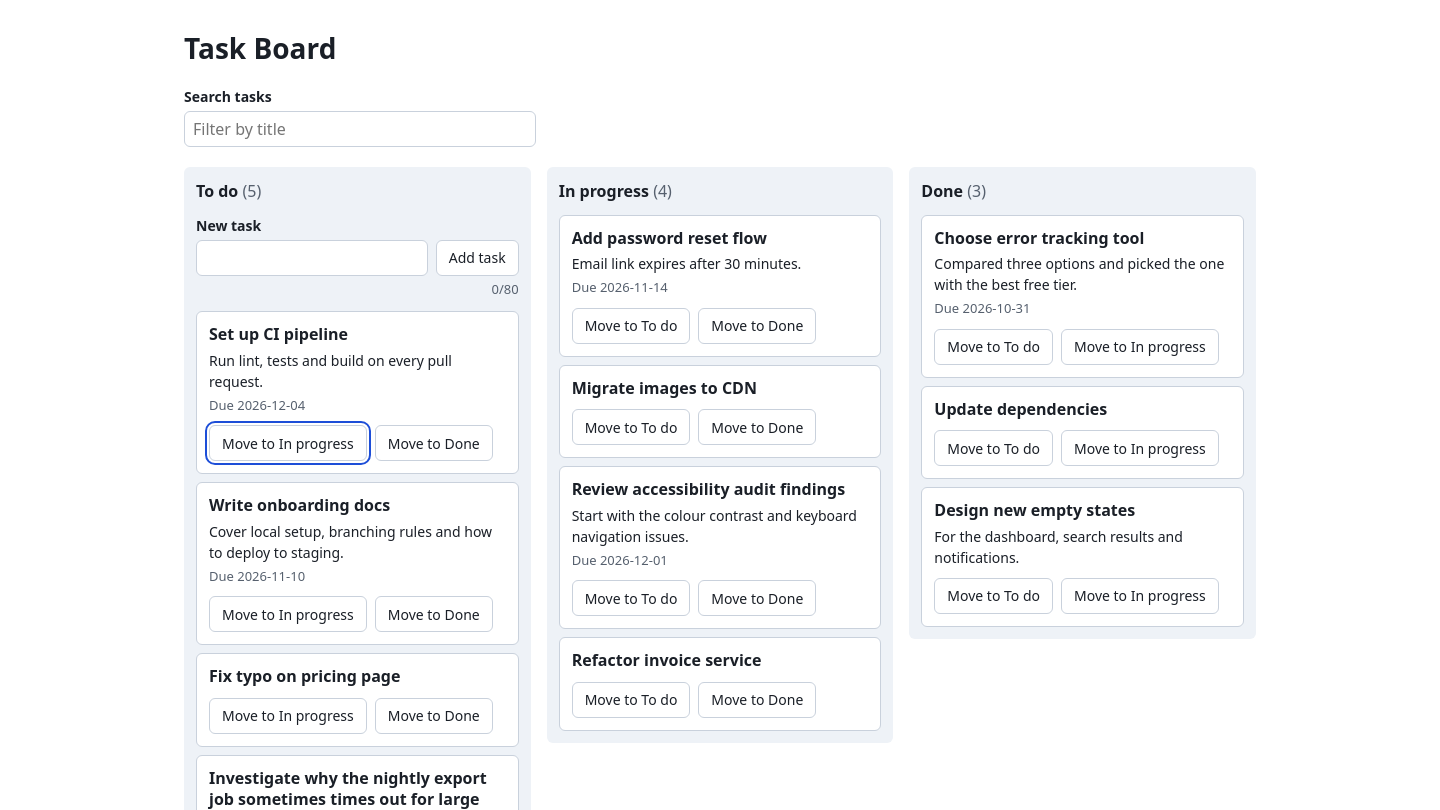
Test: saves moves to every column at failRate=0 and keeps counts in sync
This screenshot has width=1440, height=810.
Click the button "Move to In progress" below "Set up CI pipeline": (288, 443) [209, 425, 367, 461]
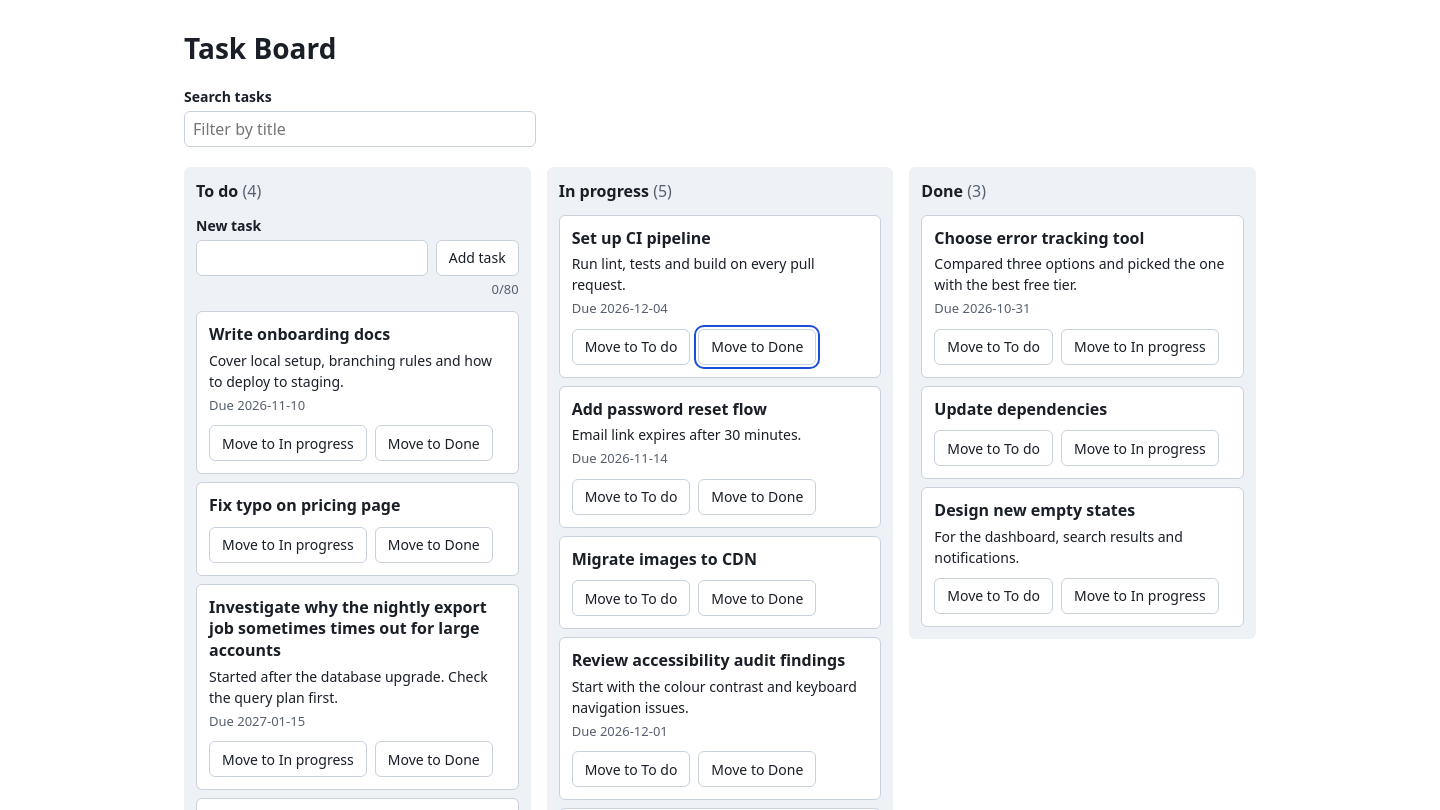
Expected: the heading "Done (3)" is shown, [921, 180, 986, 202]
Now the heading "To do (4)" is shown, box [196, 180, 261, 202]
Now the heading "In progress (5)" is shown, box [559, 180, 672, 202]
Click the button "Move to Done" below "Set up CI pipeline": (757, 347) [698, 329, 816, 365]
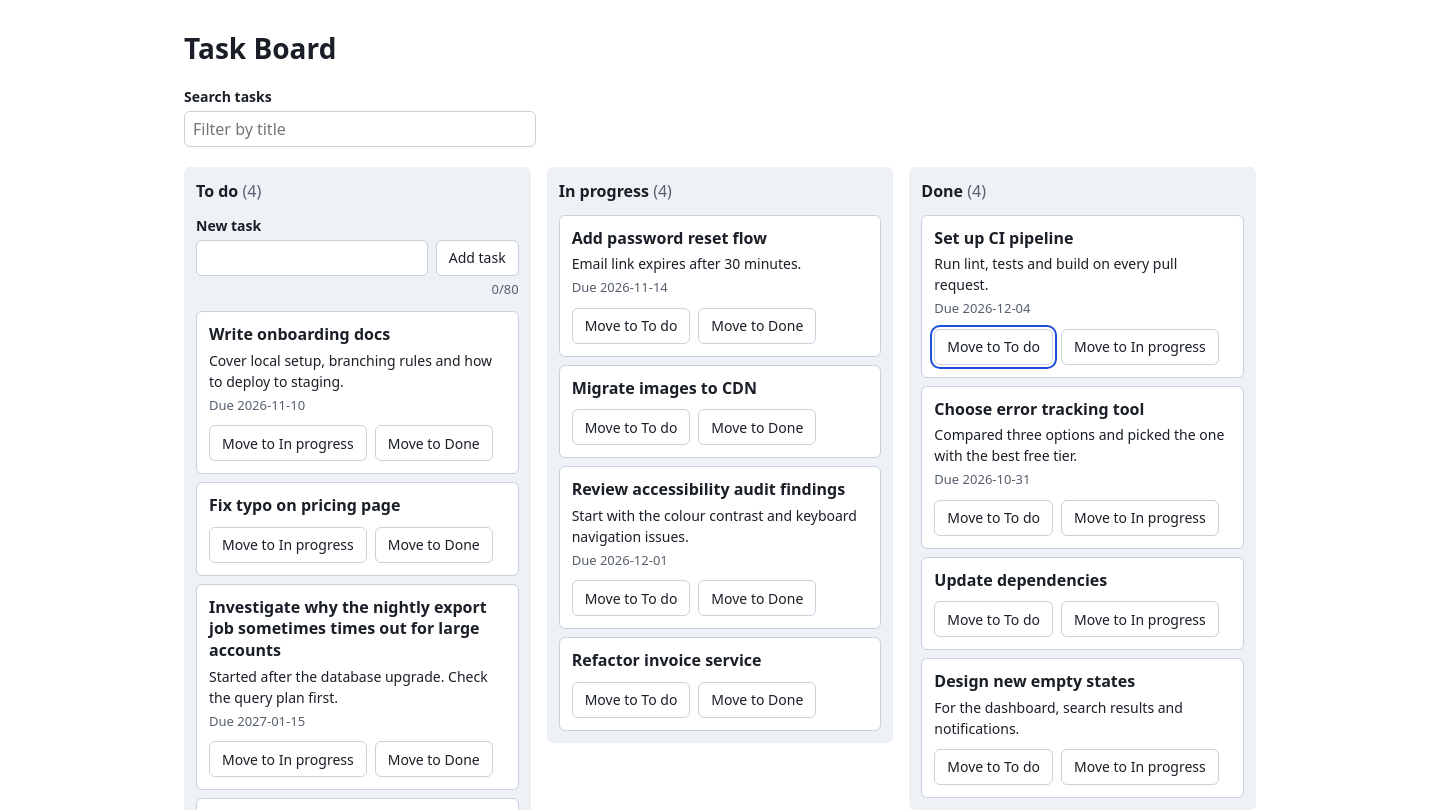
Now the heading "Done (4)" is shown, box [921, 180, 986, 202]
Click the button "Move to To do" below "Set up CI pipeline": (994, 347) [934, 329, 1053, 365]
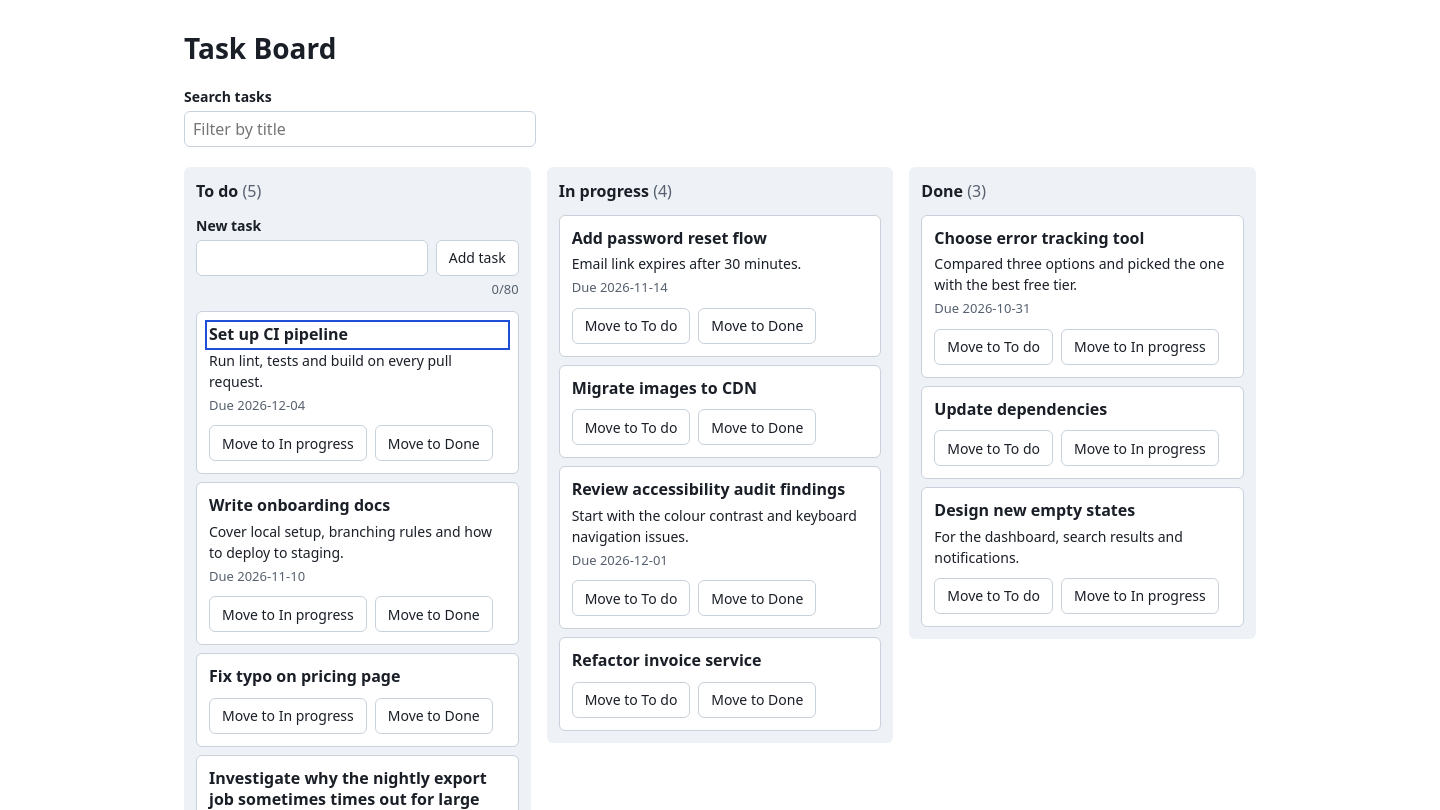
Now the heading "In progress (4)" is shown, box [559, 180, 672, 202]
Now the heading "To do (5)" is shown, box [196, 180, 261, 202]
Now the heading "Done (3)" is shown, box [921, 180, 986, 202]
